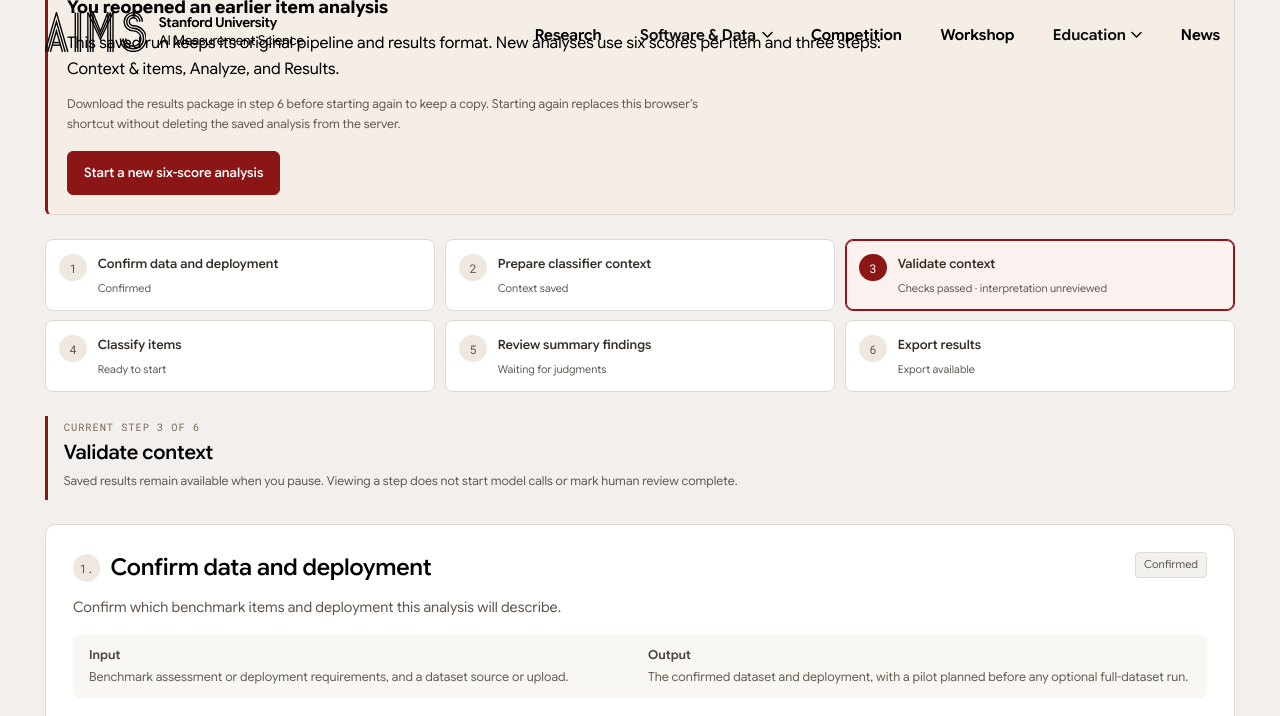
deletes saved results only after the discard action is confirmed and then clears both access stores
(page scrolled)
Click the link "6 Export results Export available" at [939, 345], box [845,320,1235,392]
(page scrolled)
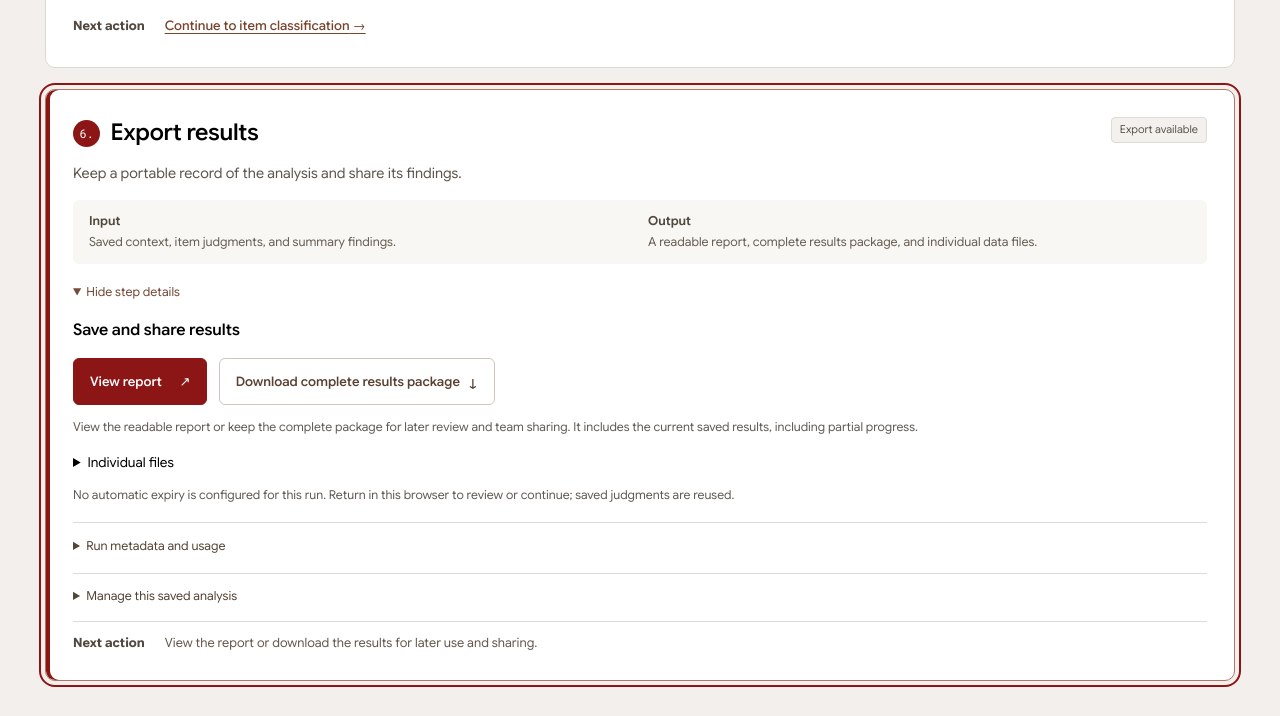
Click the heading "Manage this saved analysis" at [162, 596], box [86,588,237,604]
(page scrolled)
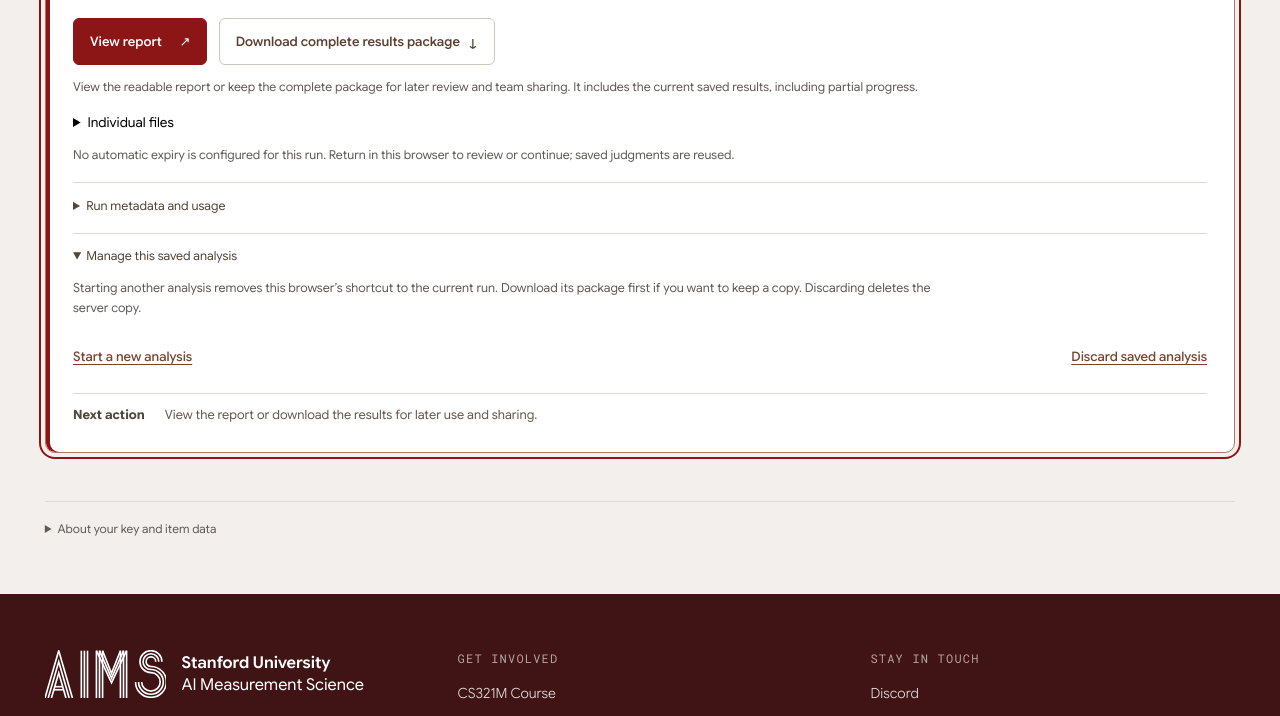
Click the button "Discard saved analysis" at [1139, 356], box [1071,335,1207,377]
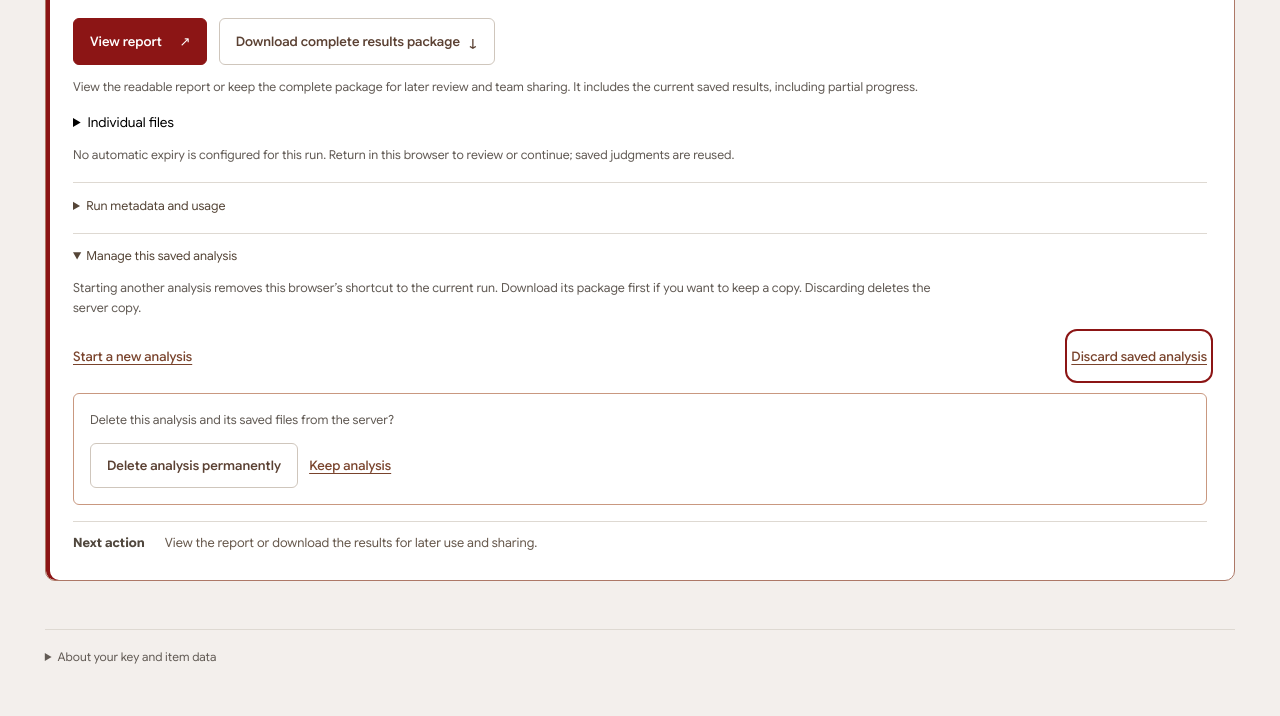
Click the button "Keep analysis" at [350, 466], box [309,444,391,487]
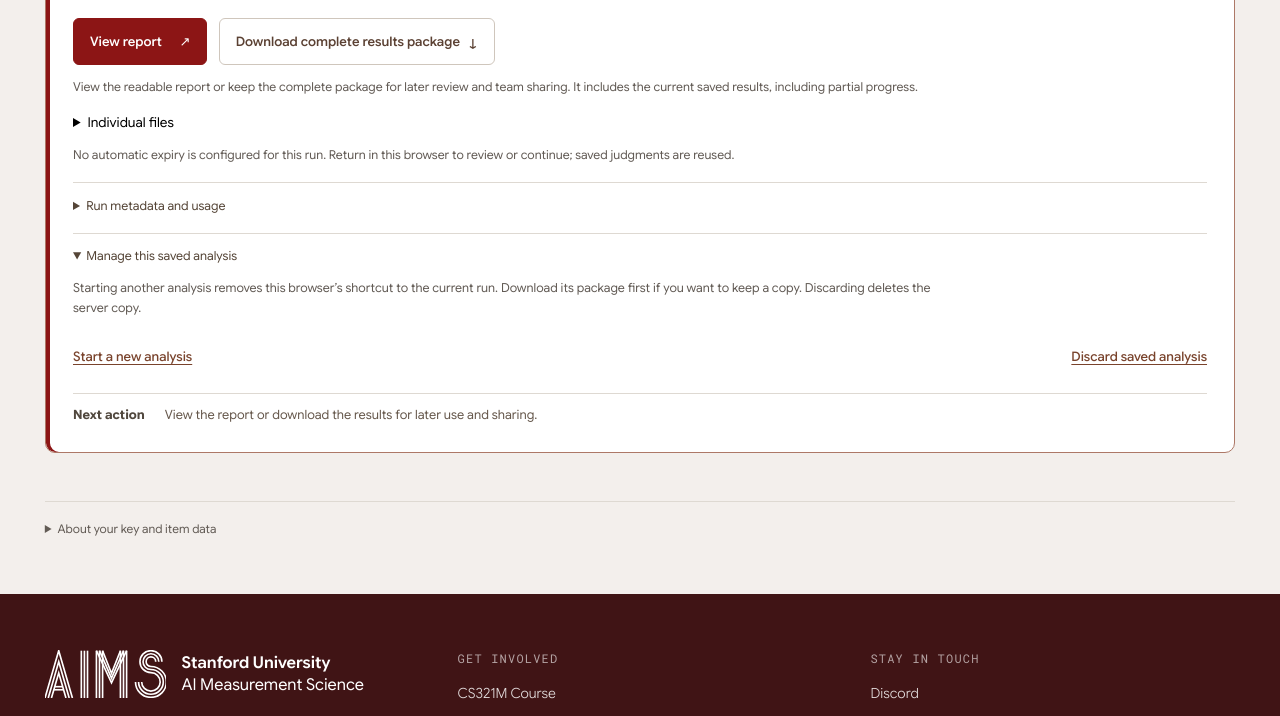
Click the button "Discard saved analysis" at [1139, 356], box [1071,335,1207,377]
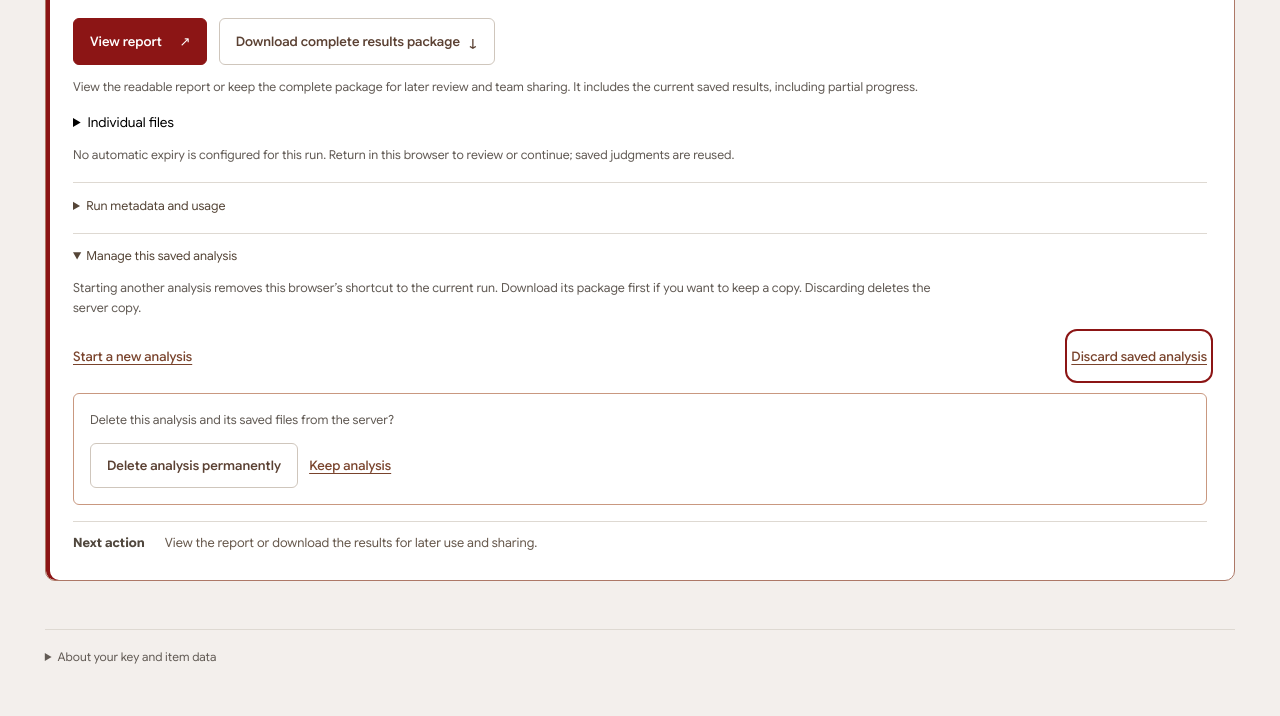
Click the button "Delete analysis permanently" at [194, 466], box [90,444,298,488]
(page scrolled)
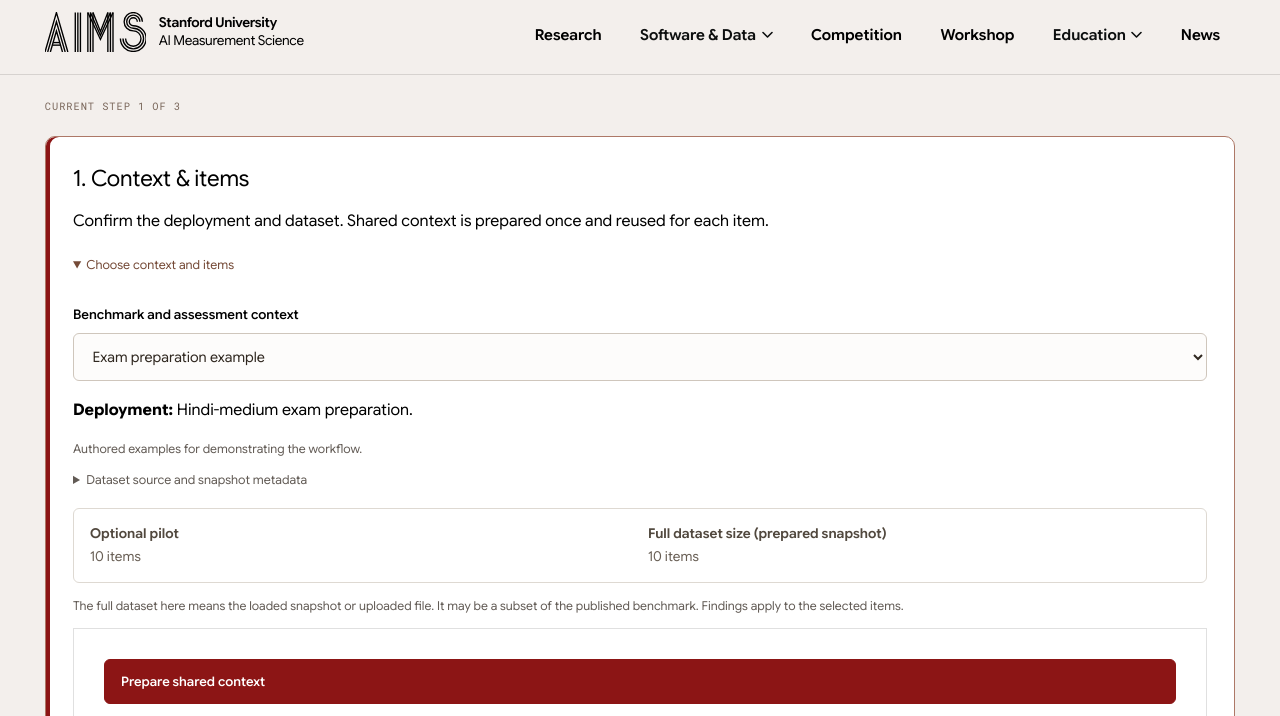
Expected: the dropdown labelled "Benchmark and assessment context" is shown, [73,333,1207,381]
